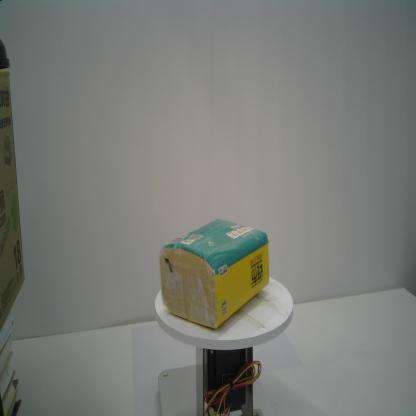Tissue: (157, 216, 271, 331)
